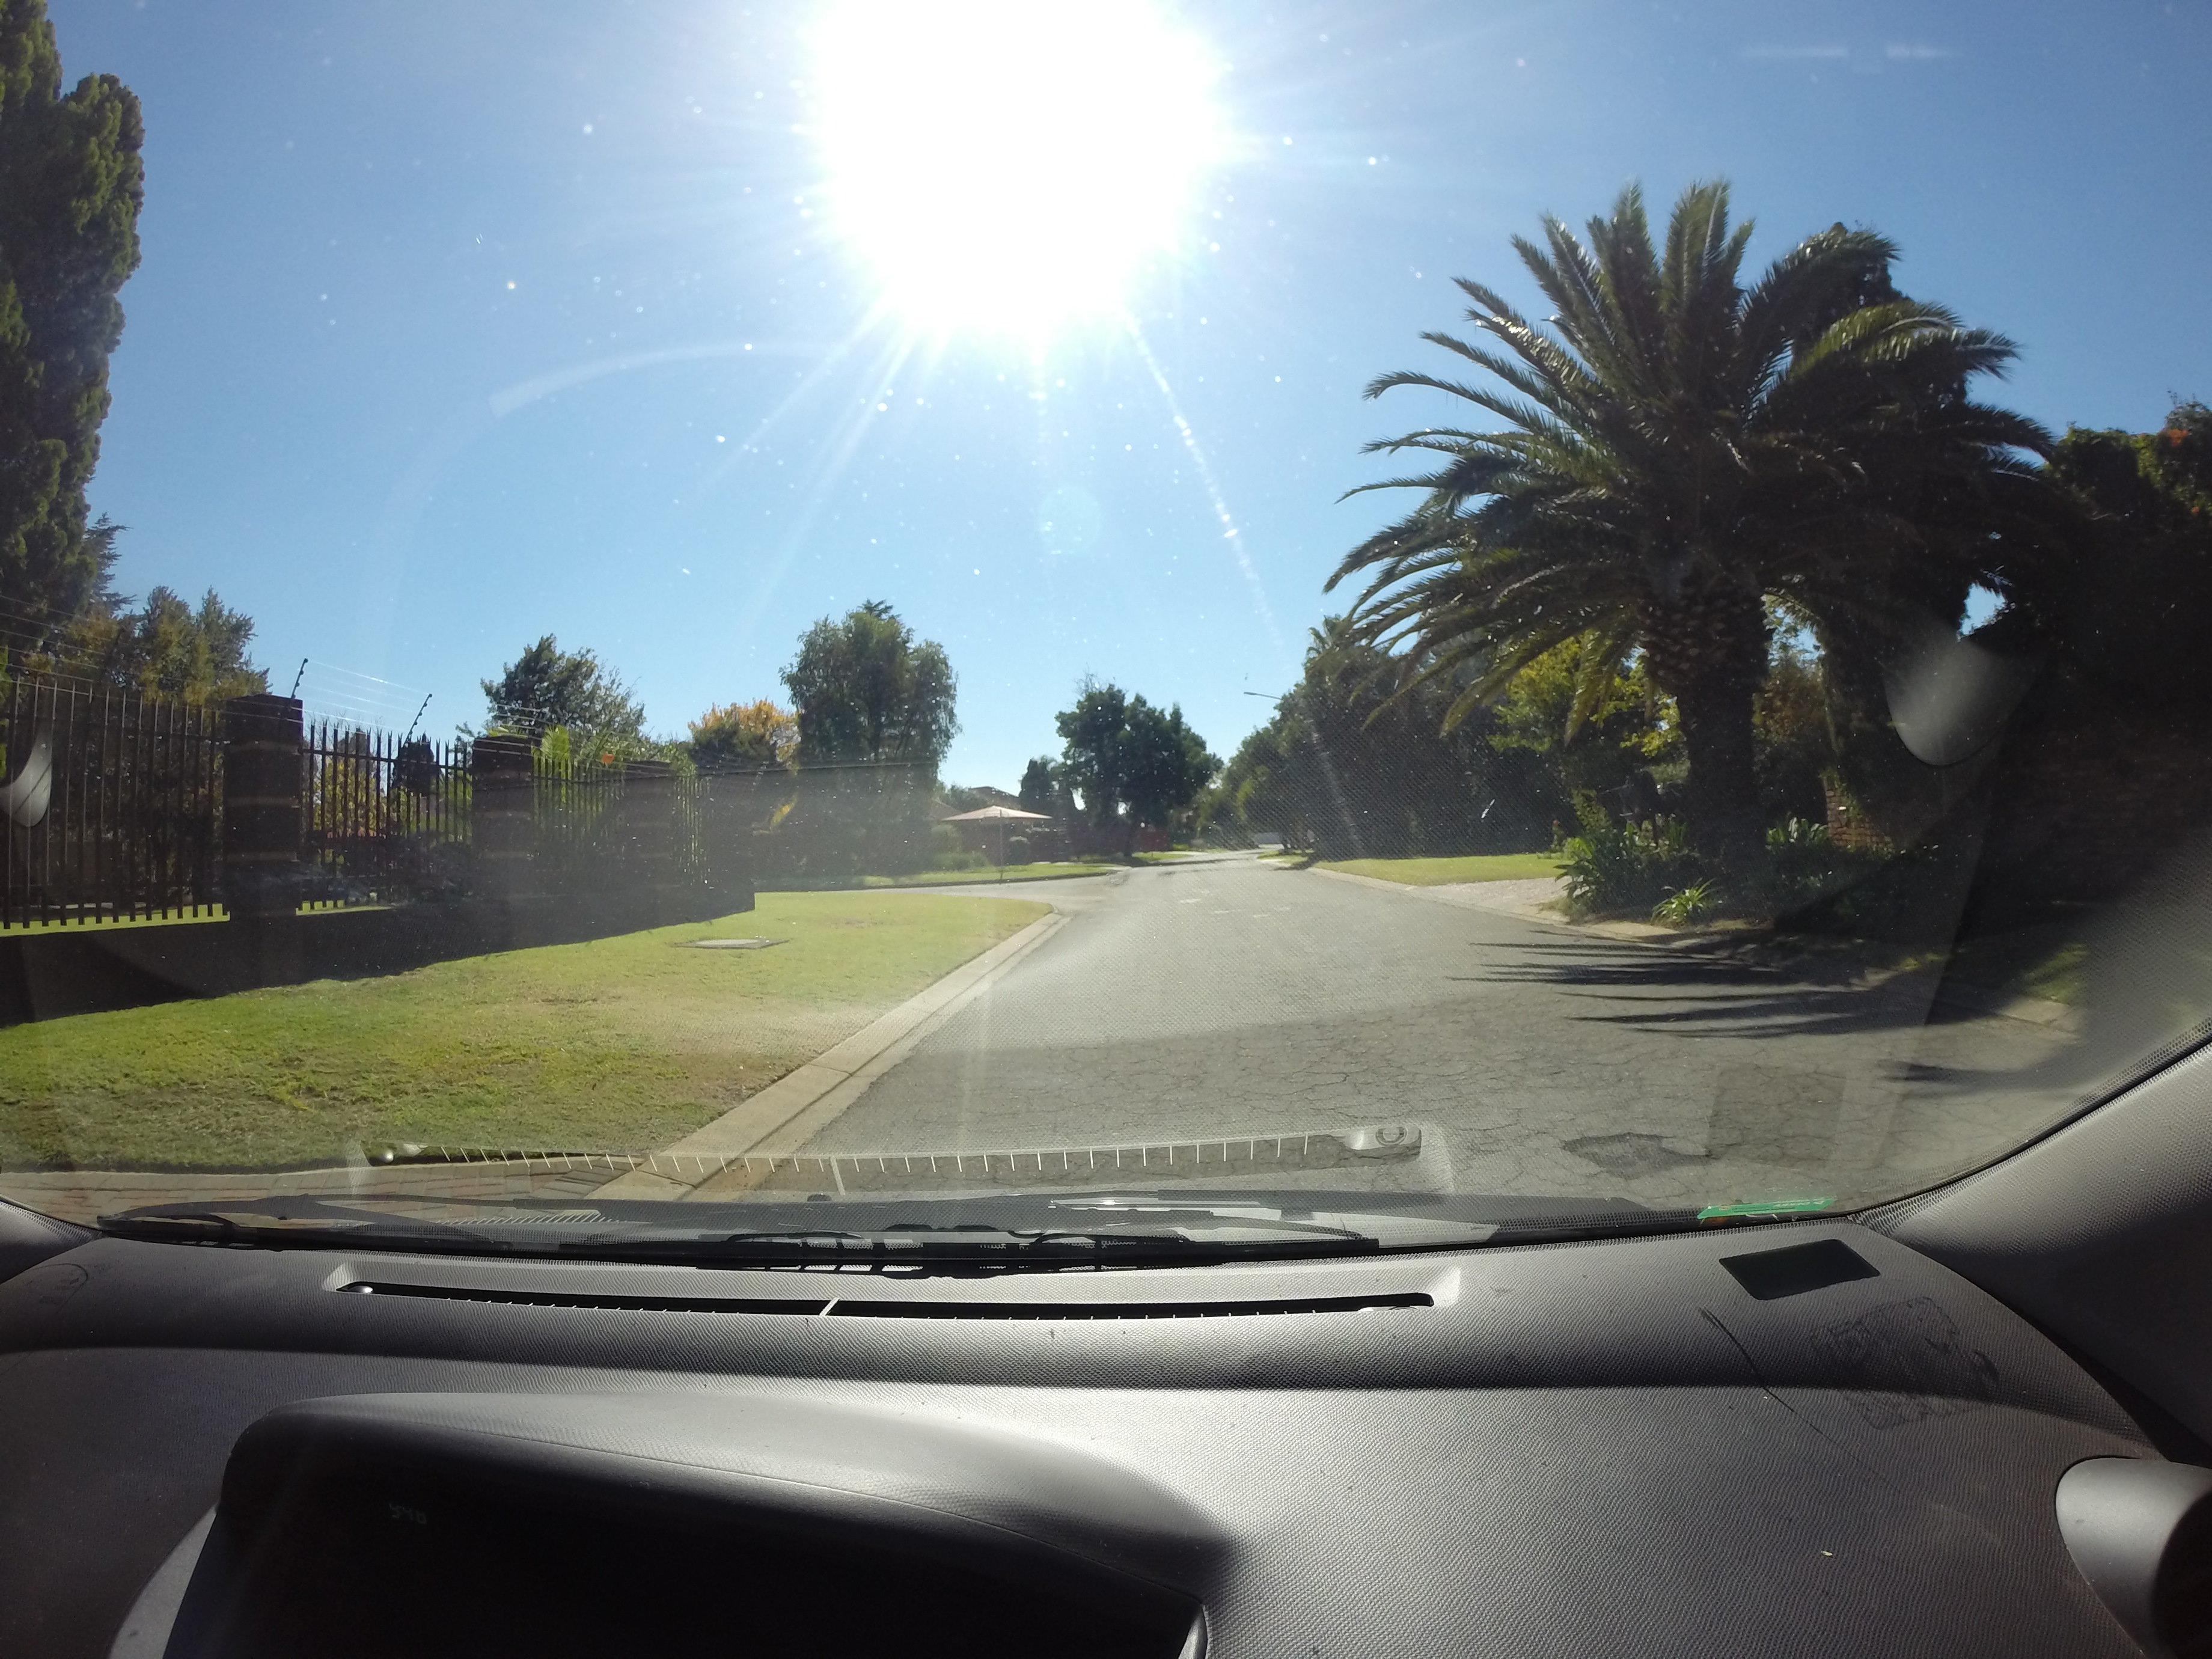pothole: (1514, 1086, 1764, 1190)
